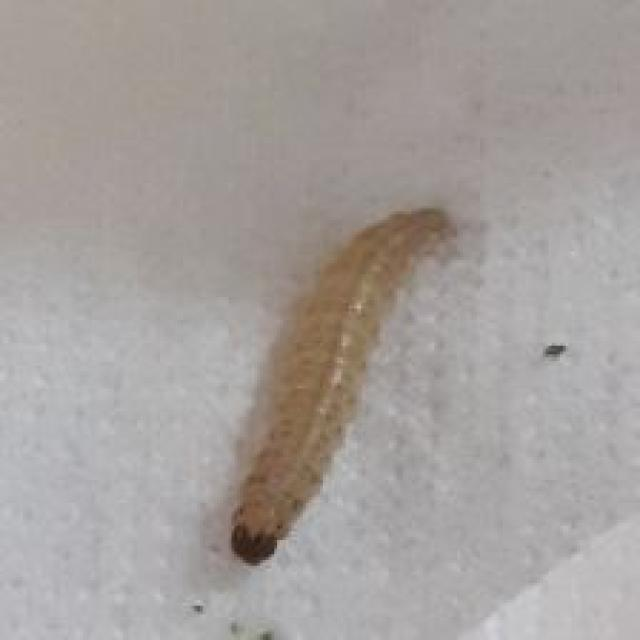white mucus: (180, 178, 499, 569)
